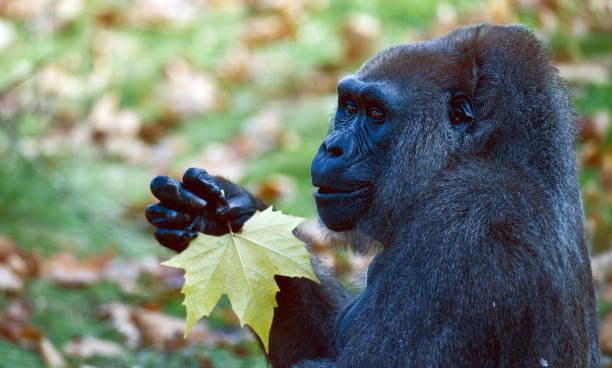gorille_Autres: (168, 1, 604, 366)
